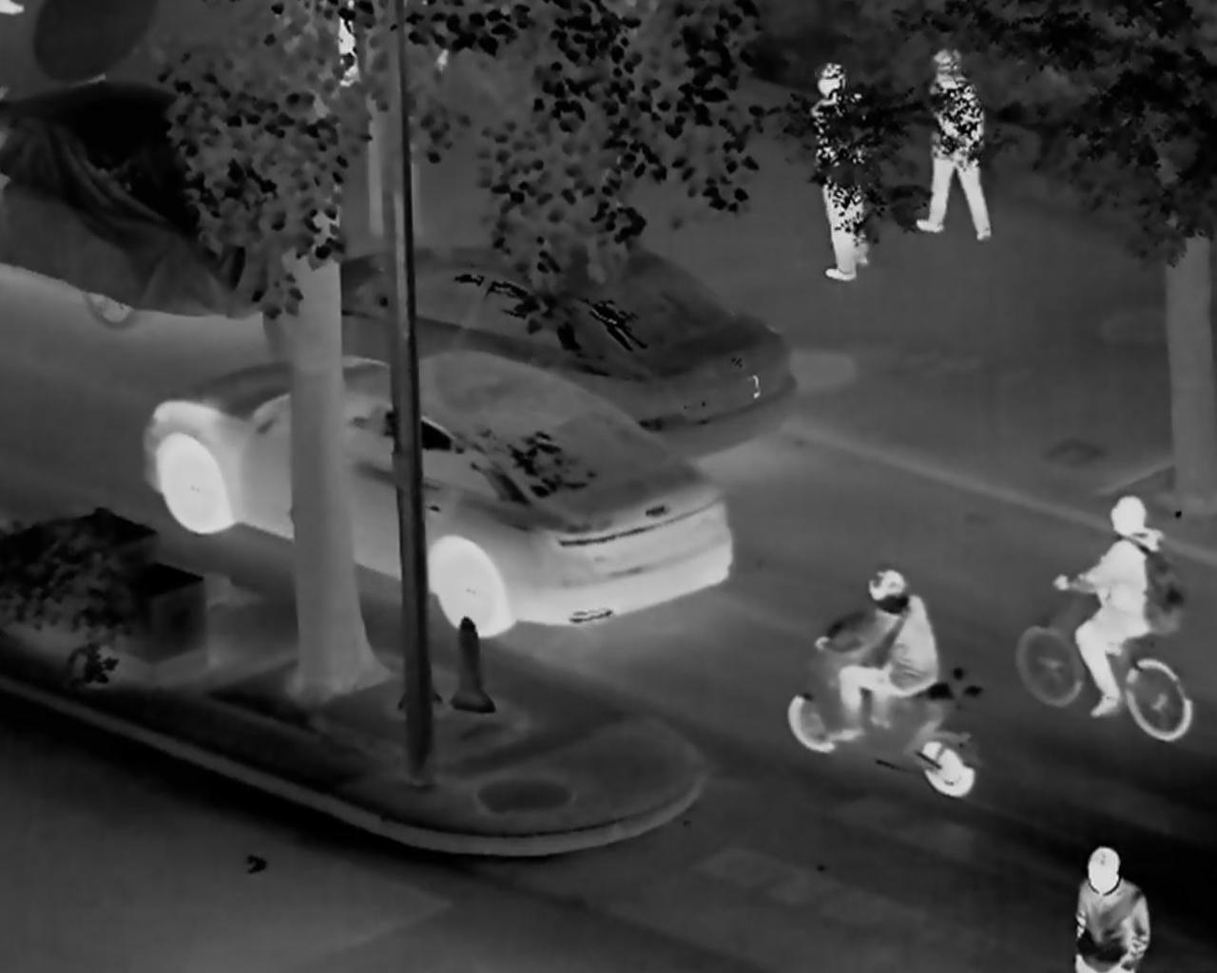person: (1054, 496, 1169, 716), (814, 569, 938, 745), (915, 46, 995, 245), (806, 66, 872, 278), (1071, 844, 1147, 971)
